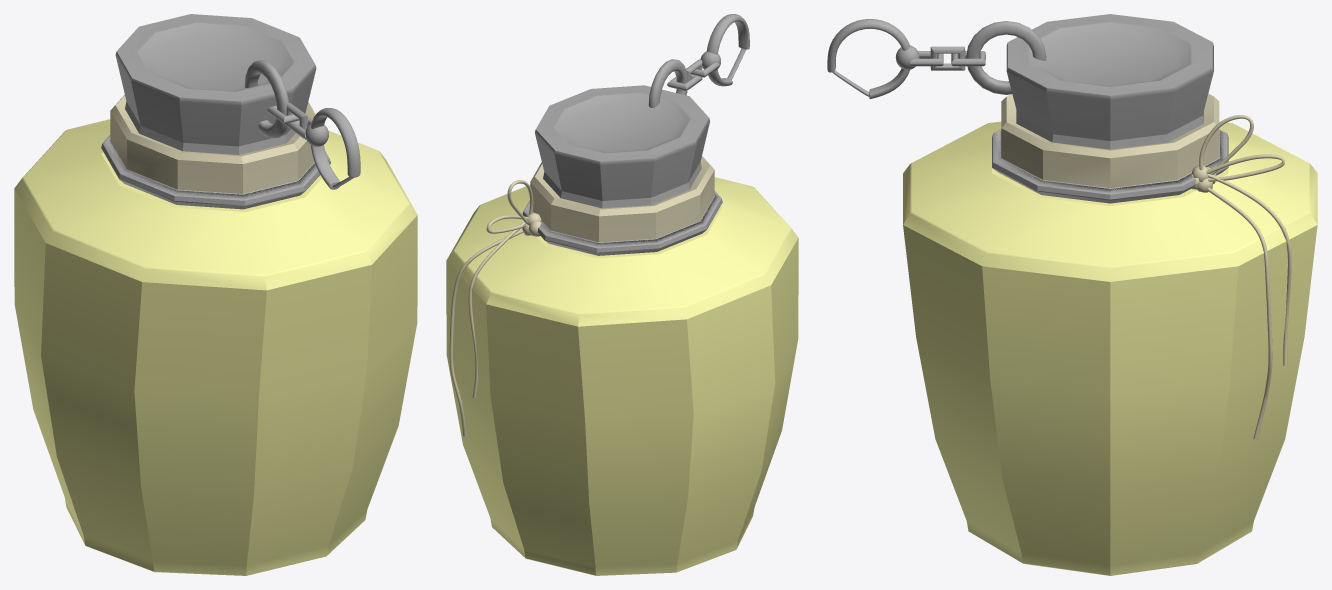
Rendered from eggy.fbx.
The picture shows the model from 3 angles, left to right: view 1: azimuth 30°, elevation 25°; view 2: azimuth 150°, elevation 25°; view 3: azimuth 270°, elevation 25°; orthographic projection. The views are drawn at different scales.
Parts seen in each view (by area): view 1: EggyFinal; view 2: EggyFinal; view 3: EggyFinal.
Part boxes in pixels (x1,y1,x2,y2): EggyFinal: (14, 14, 417, 575); EggyFinal: (446, 14, 798, 575); EggyFinal: (827, 14, 1317, 575).
Bounding box in the file's own units: 9.52 × 12.93 × 11.54.
